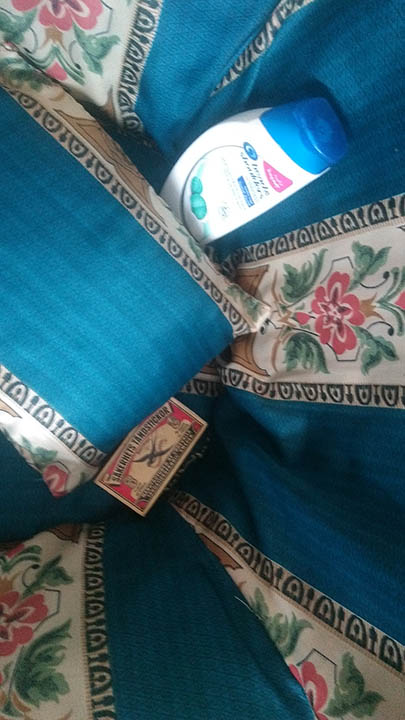match-sticks .90$: (89, 368, 216, 527)
shampoo-green 4.5$: (146, 81, 338, 253)
